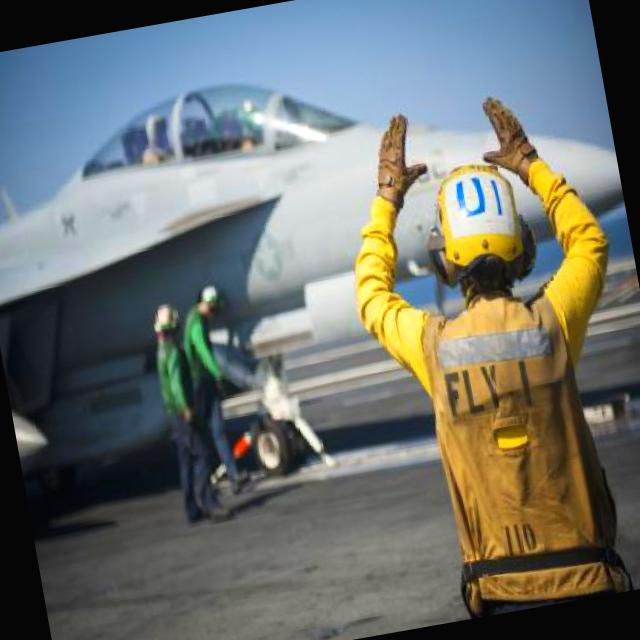Person: (323, 78, 640, 627), (168, 282, 256, 506), (146, 299, 230, 525), (132, 114, 177, 166)
